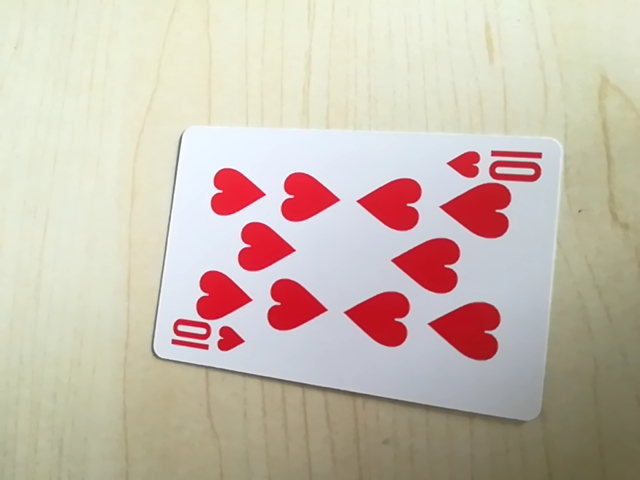hx 10: (447, 143, 548, 184), (167, 319, 248, 361)
